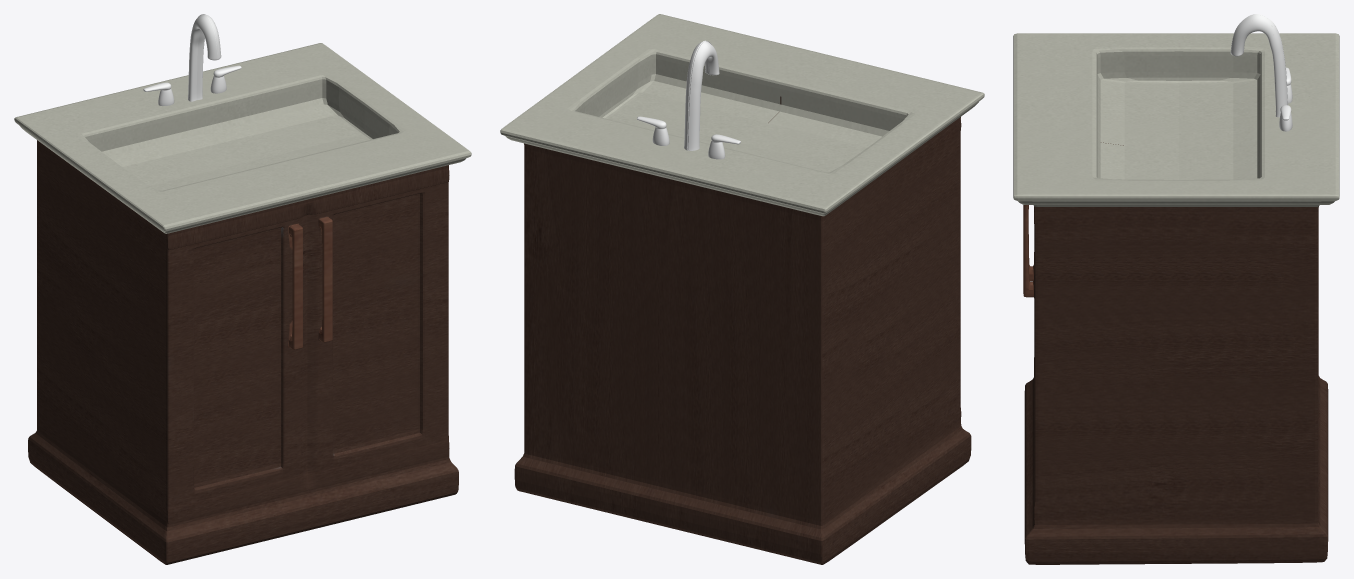
Rendered from _finalBathSink.fbx.
3 renders of one model, left to right at view 1: azimuth 30°, elevation 25°; view 2: azimuth 150°, elevation 25°; view 3: azimuth 270°, elevation 25°, orthographic. The views are drawn at different scales.
Parts seen in each view (by area): view 1: BathroomSink; view 2: BathroomSink; view 3: BathroomSink.
Boxes of the visible parts, x1,y1,x2,y2 form: BathroomSink: (14,14,471,564); BathroomSink: (500,14,984,564); BathroomSink: (1013,14,1339,564).
Bounding box in the file's own units: 347 × 472 × 294.
Materials: 1 (1 with a texture image).
